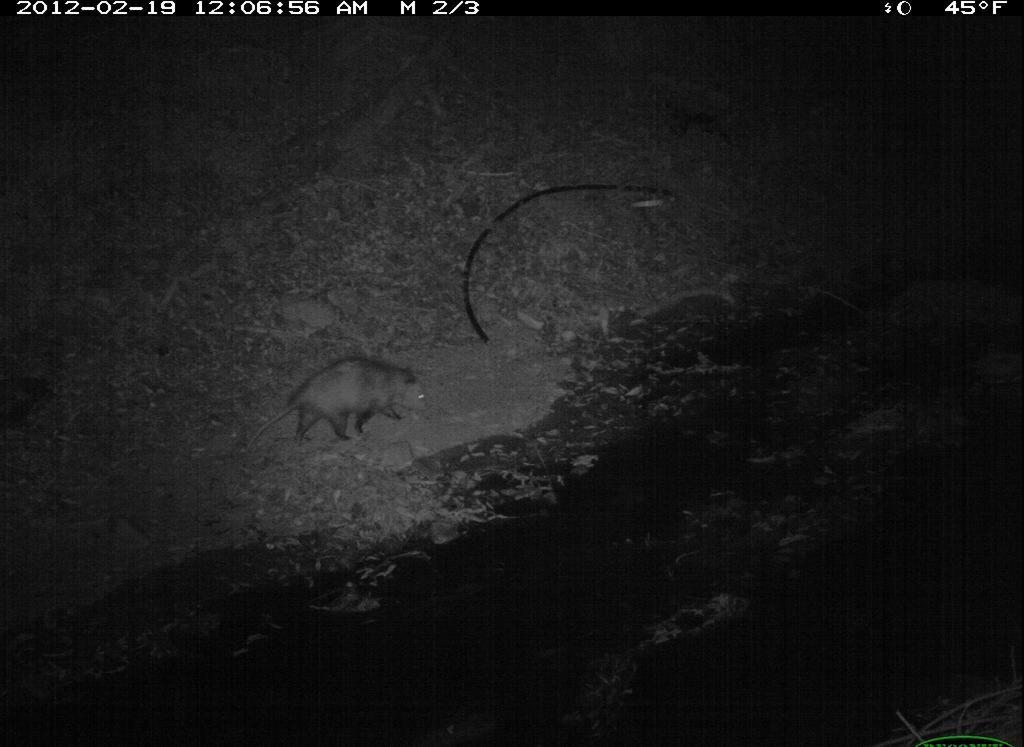opossum: (244, 355, 432, 452)
